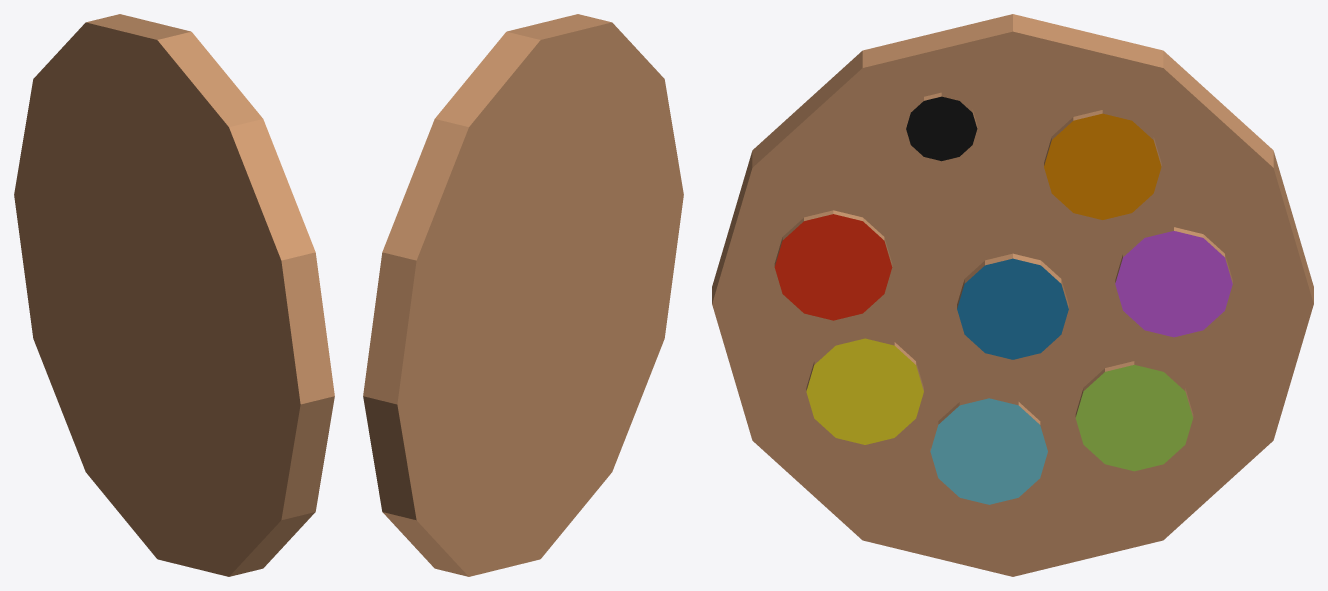
Rendered from colourpalette.fbx.
The picture shows the model from 3 angles, left to right: view 1: azimuth 30°, elevation 25°; view 2: azimuth 150°, elevation 25°; view 3: azimuth 270°, elevation 25°; orthographic projection. The views are drawn at different scales.
Parts seen in each view (by area): view 1: colour palette; view 2: colour palette; view 3: colour palette.
Boxes of the visible parts, left/top/right/bottom form: colour palette: left=14, top=14, right=334, bottom=576; colour palette: left=363, top=14, right=683, bottom=576; colour palette: left=712, top=14, right=1313, bottom=576.
Size of the model in its own units: 1.47 by 16.55 by 16.55.
